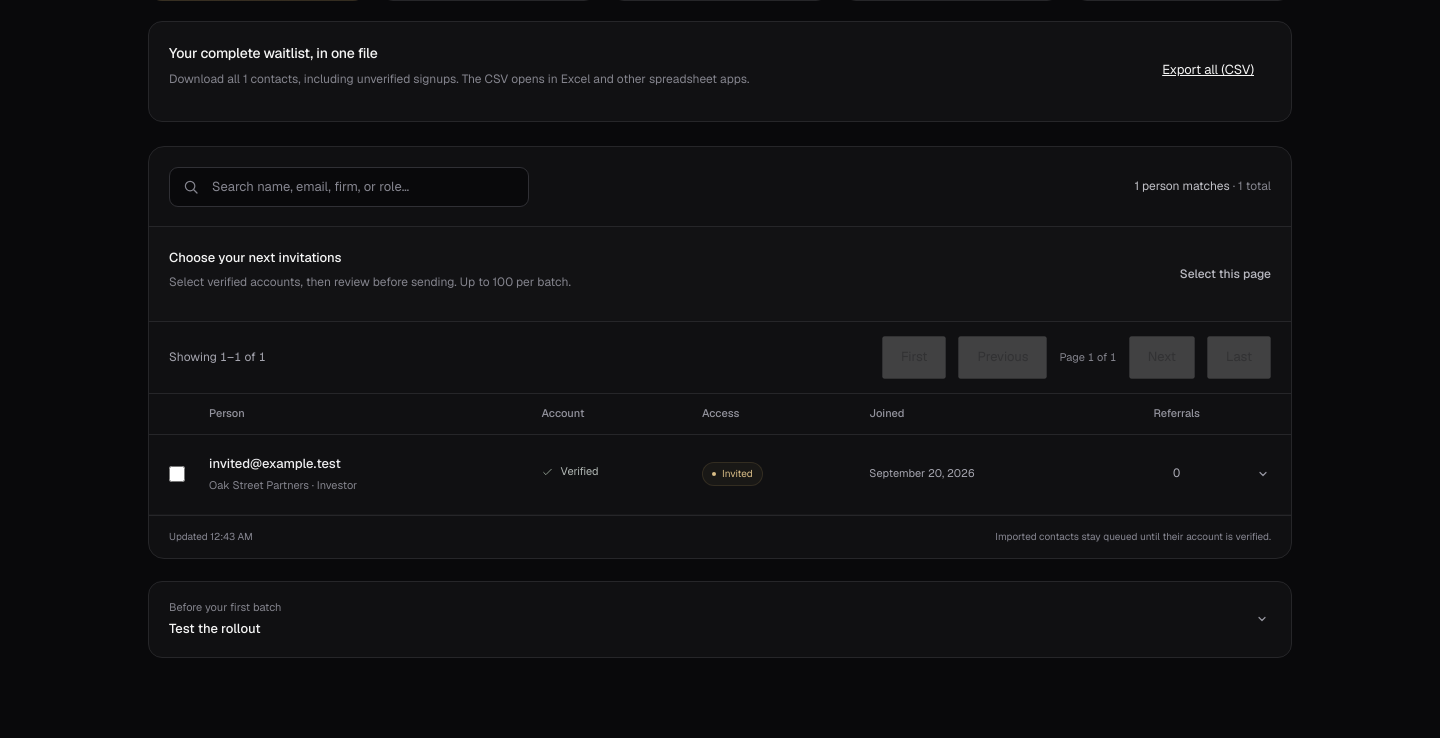
Scenario: waitlist administration › warns that reissuing a pending invitation invalidates its previous link
(page scrolled)
Expected: the button "invited@example.test" is shown, [209,454,341,473]
Click the checkbox at {"x": 177, "y": 474}, box [169,466,185,482]
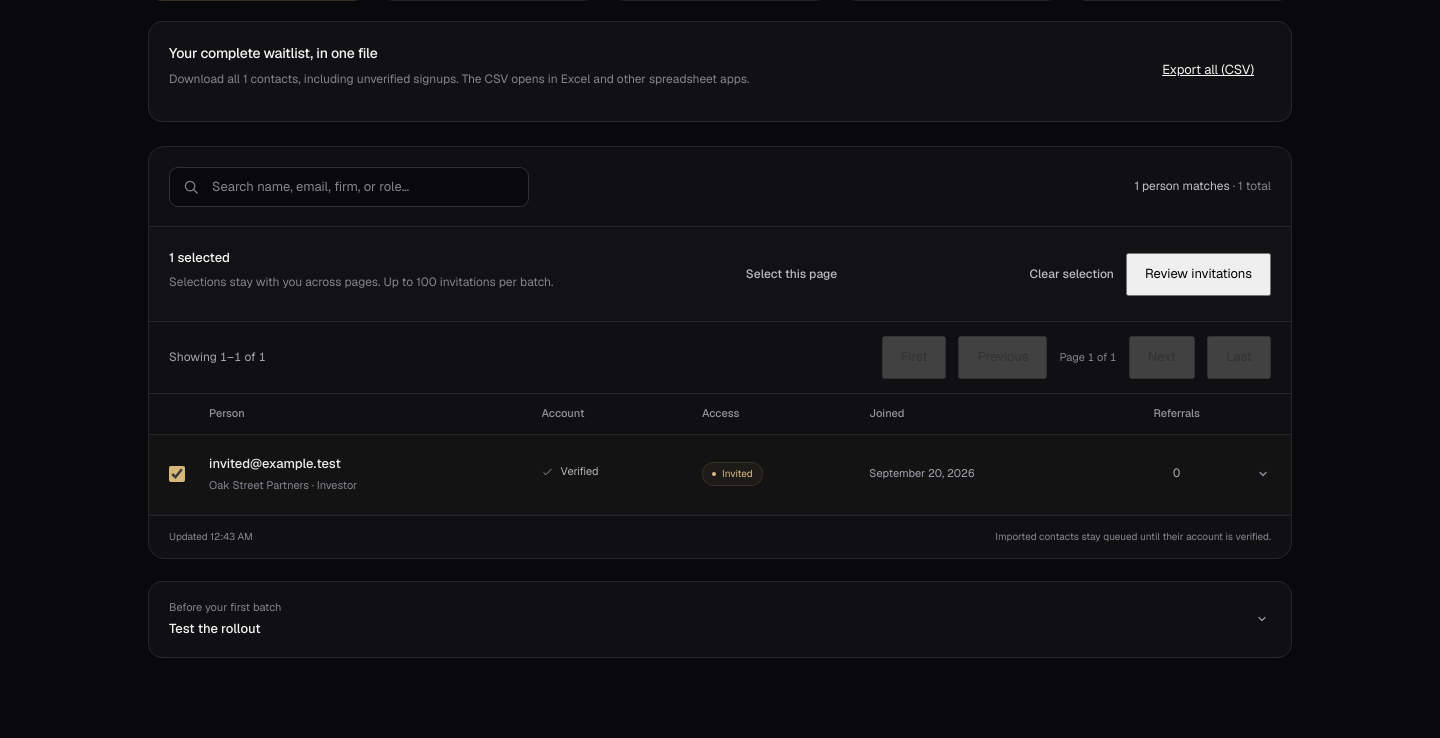
Click the button "Review invitations" at {"x": 1198, "y": 274}, box [1126,253,1271,296]
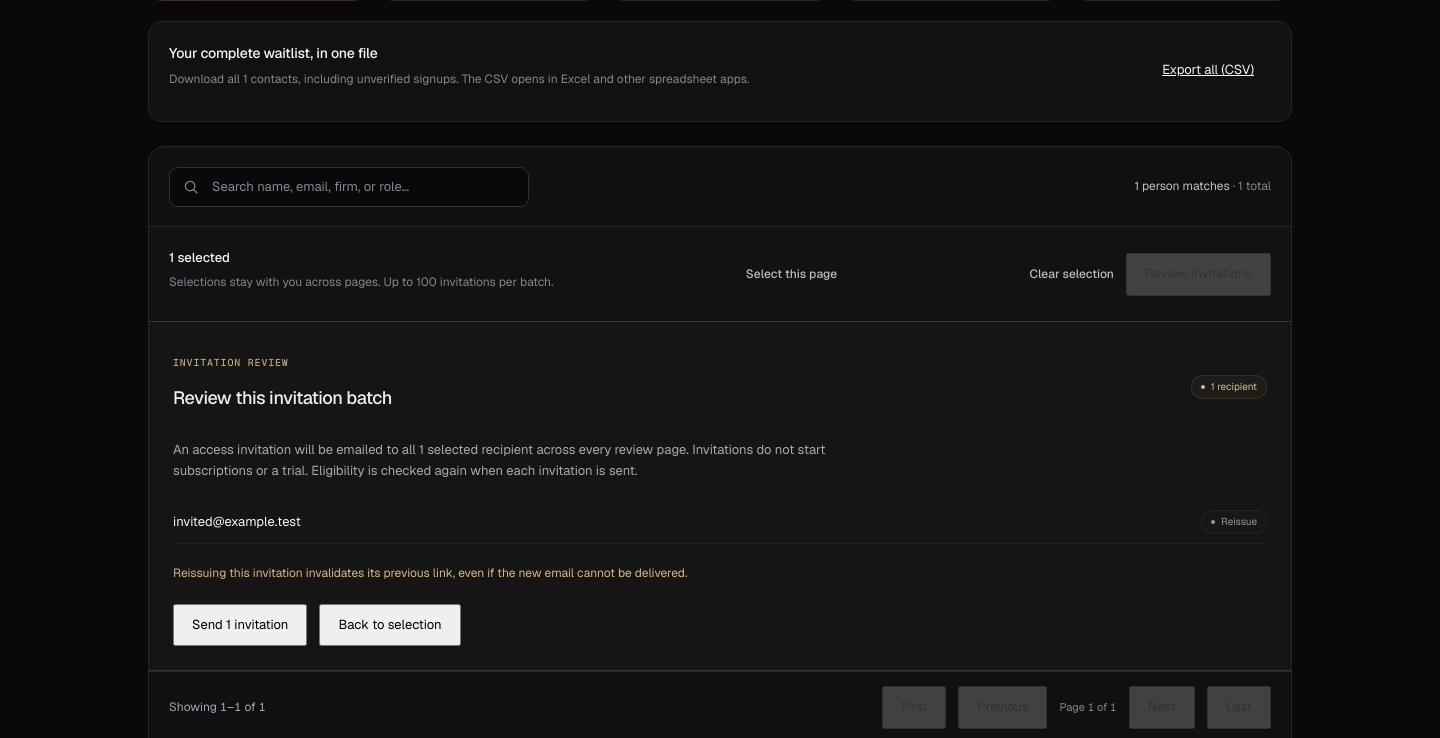
Now the text "previous link" is shown, box [173,565,687,581]
